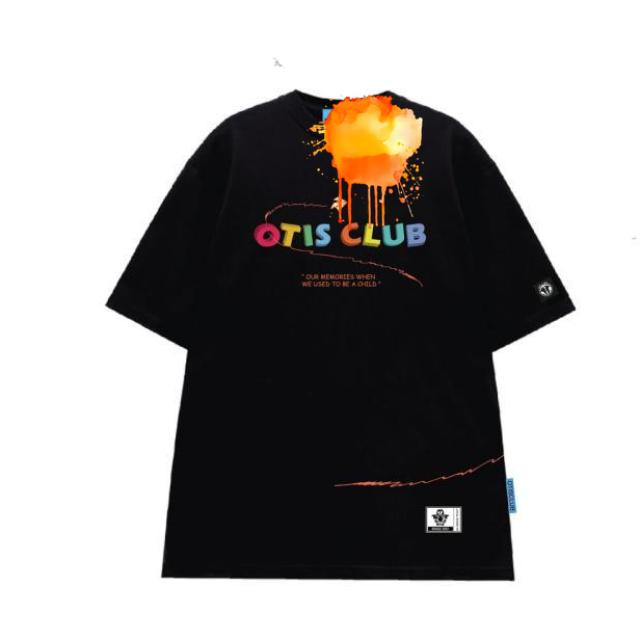stain: (310, 99, 416, 223)
